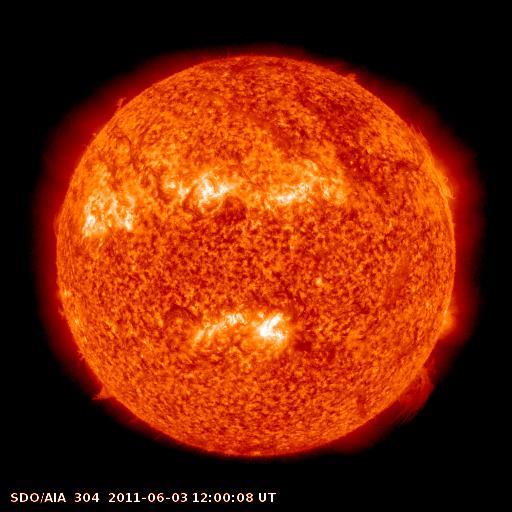prominence: (373, 352, 444, 425), (87, 383, 123, 412), (107, 89, 137, 114)
